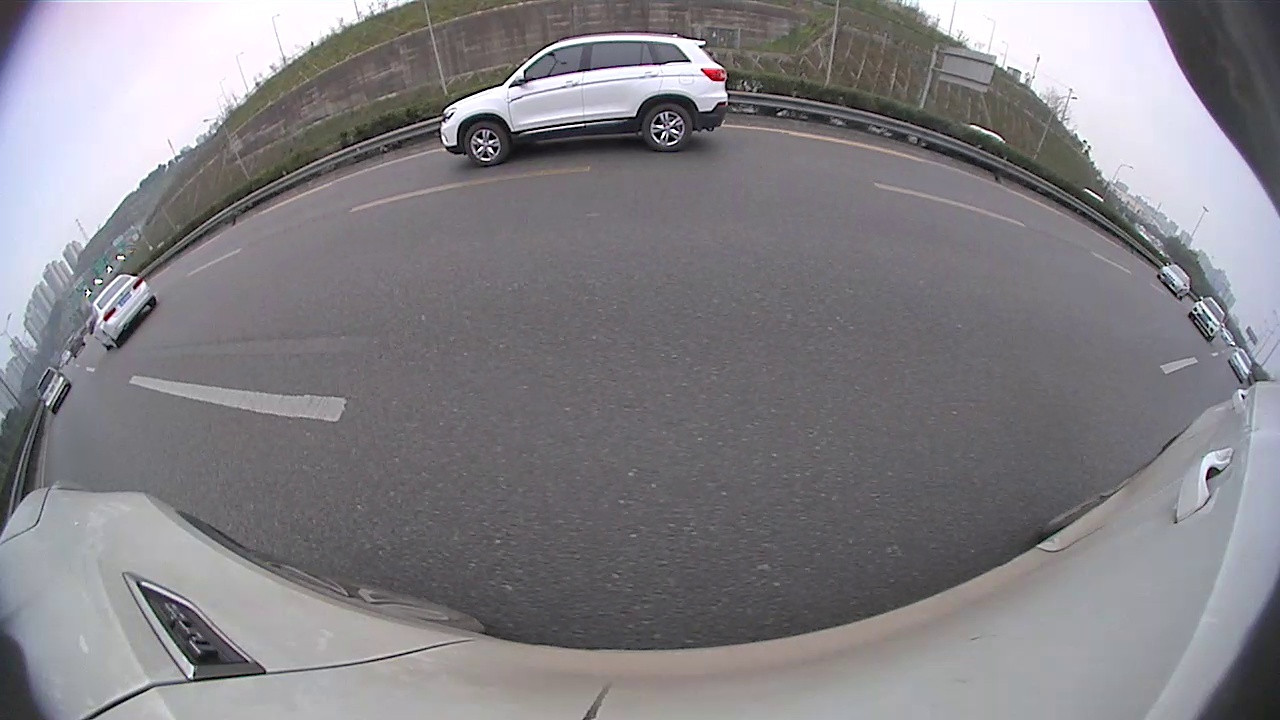car: (39, 153, 445, 425), (567, 105, 817, 268), (811, 123, 973, 259), (1131, 284, 1279, 410), (1080, 248, 1205, 307), (924, 158, 1005, 246), (531, 159, 572, 197)
front: (411, 205, 442, 263), (1148, 306, 1181, 344), (1087, 264, 1112, 292)
rear: (181, 281, 274, 388), (826, 197, 857, 242)
